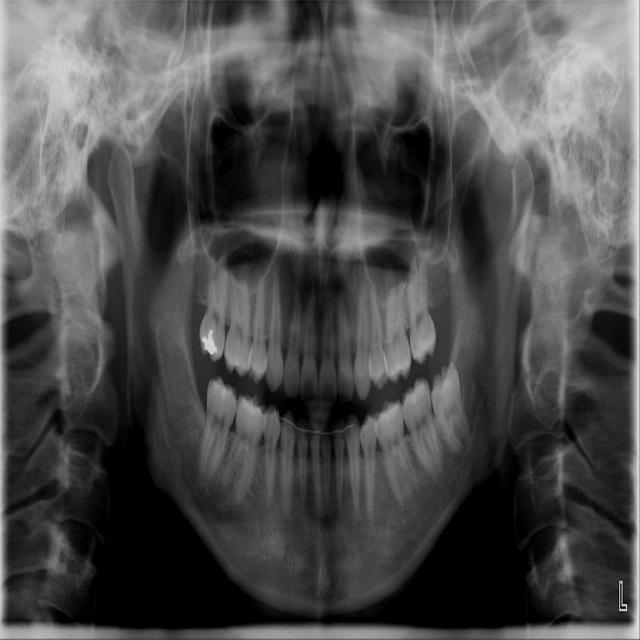Filling: (199, 326, 218, 355), (240, 398, 262, 418)
impacted tooth: (430, 363, 474, 454)
